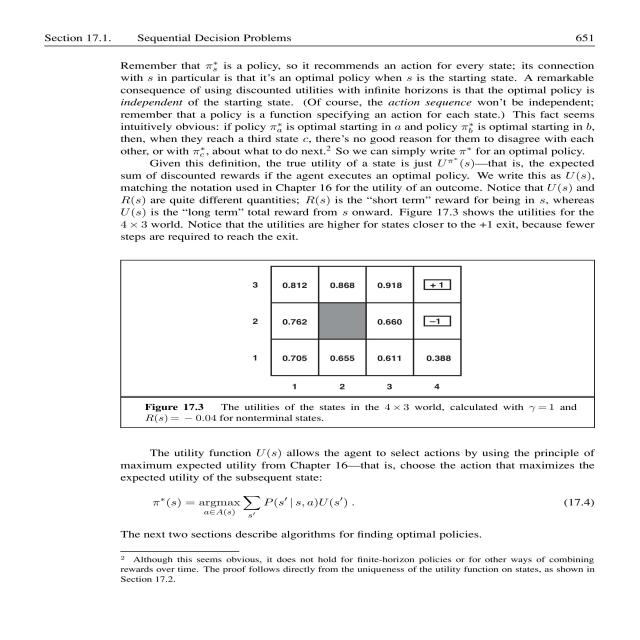diagram: (82, 242, 615, 440)
